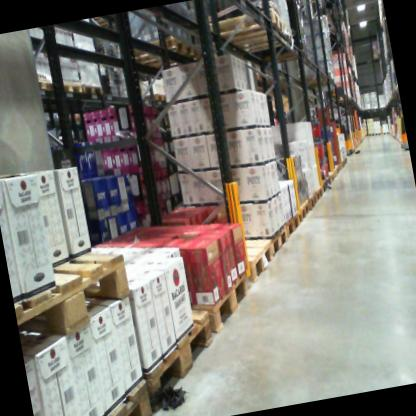pallet: (4, 226, 143, 371), (131, 300, 227, 416), (183, 262, 264, 345), (74, 366, 155, 416), (197, 3, 283, 47), (115, 27, 195, 74), (238, 228, 281, 290), (232, 21, 294, 55), (255, 43, 309, 71), (262, 221, 292, 267), (32, 70, 60, 100), (56, 72, 85, 99), (81, 80, 107, 104), (285, 211, 303, 237), (302, 192, 320, 215), (295, 198, 312, 220), (312, 183, 326, 203), (319, 177, 329, 199)
pallet_truck: (323, 100, 354, 158), (390, 98, 409, 153)
